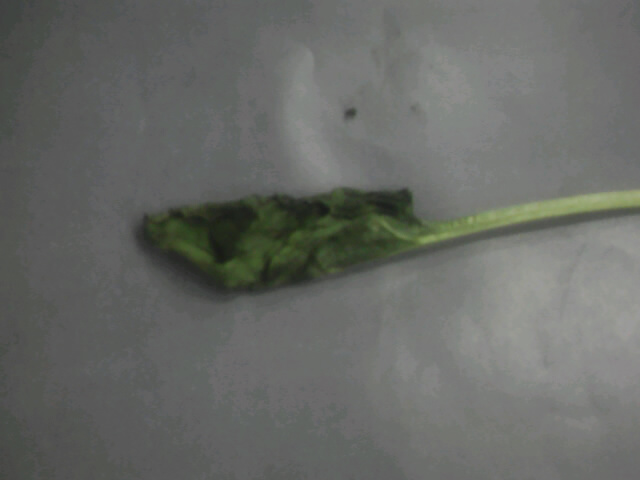yellow: (119, 157, 640, 327)
